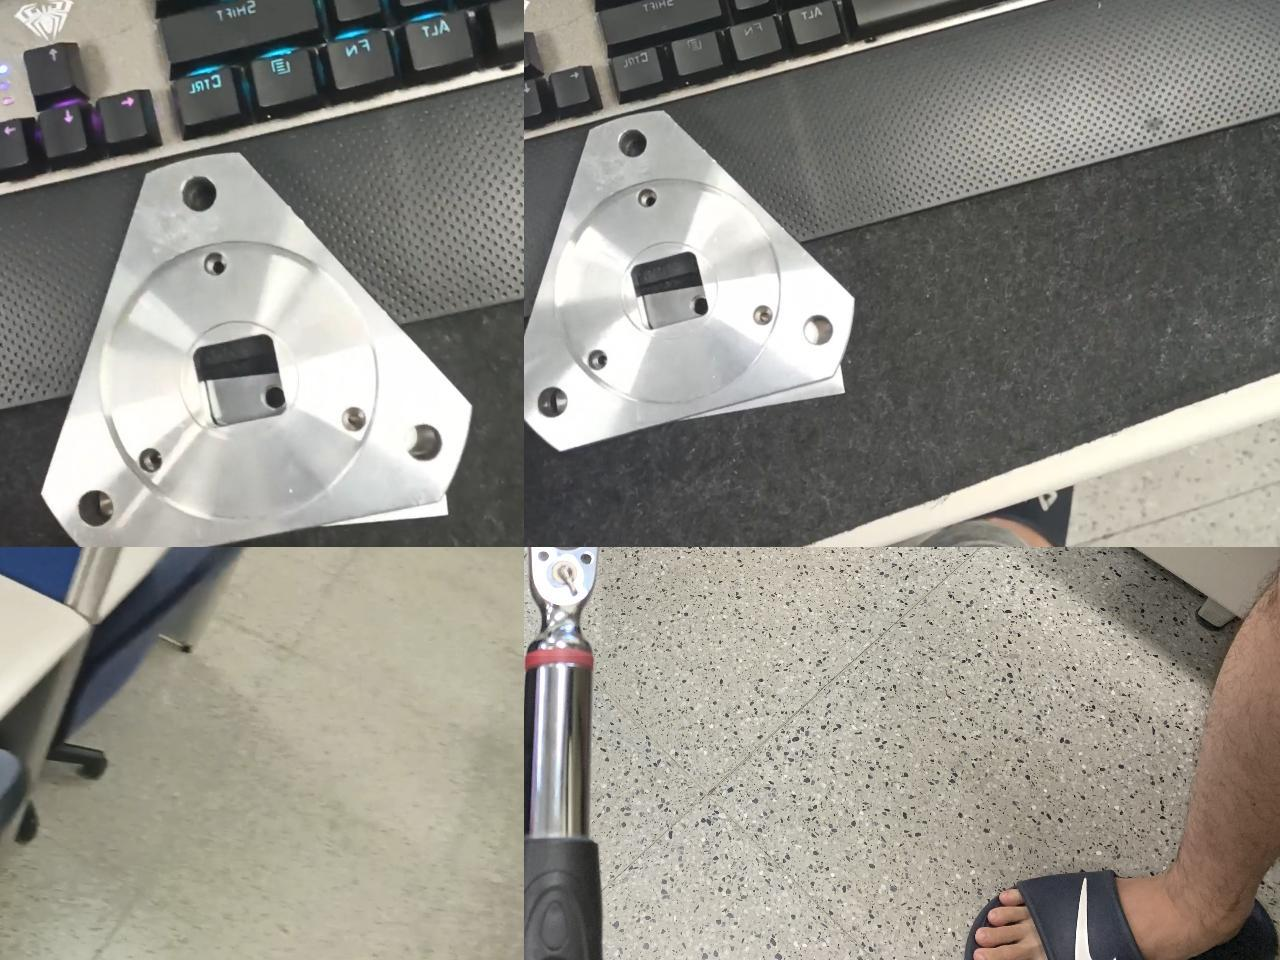Tool: (524, 547, 601, 655)
